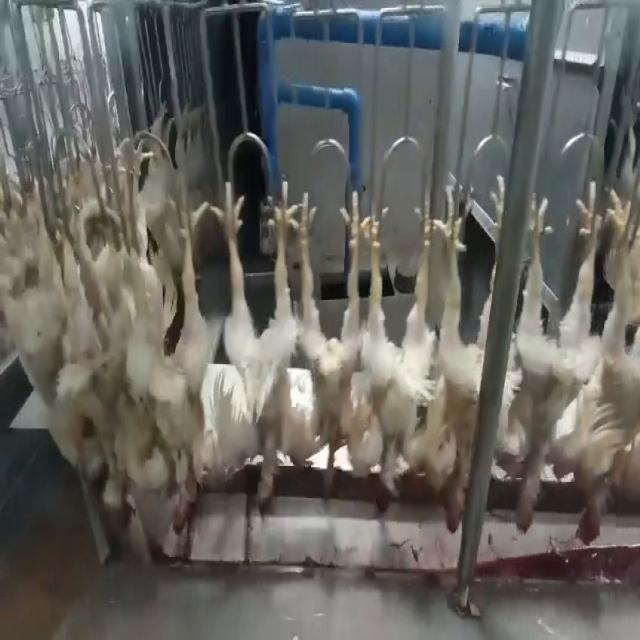chicken: (355, 175, 437, 522), (213, 179, 294, 510), (574, 186, 639, 552), (508, 189, 572, 532), (429, 163, 485, 537), (297, 188, 362, 499), (105, 198, 156, 533), (162, 195, 206, 537), (54, 187, 98, 480)
